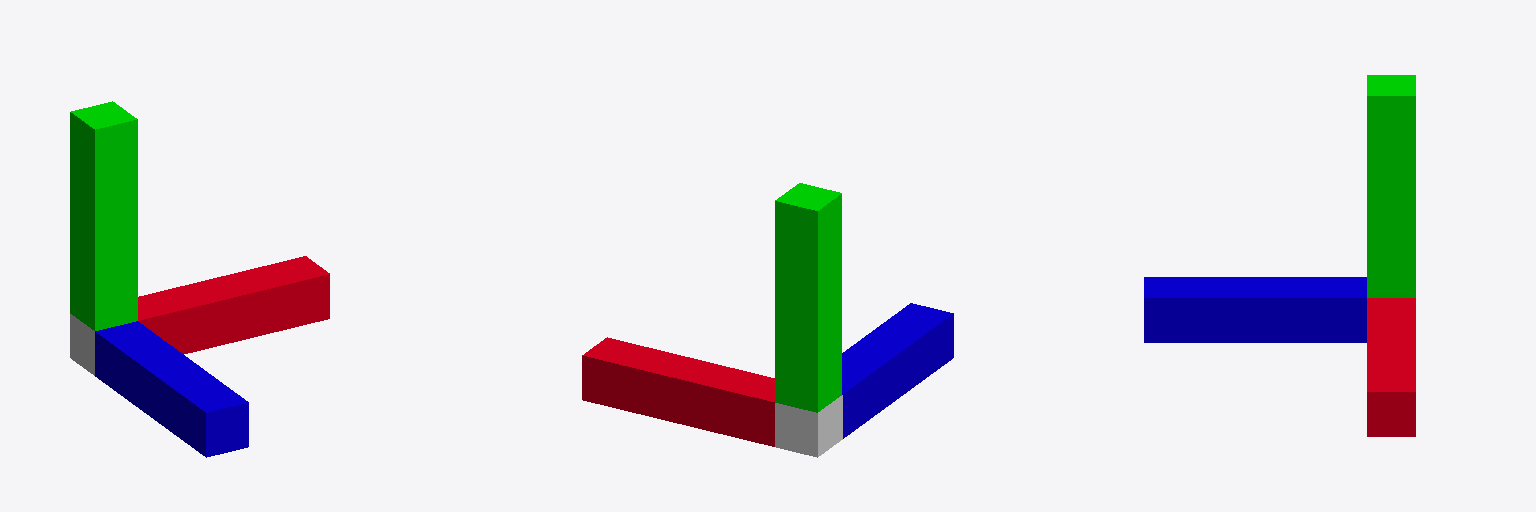
3 renders of one model, left to right at view 1: azimuth 30°, elevation 25°; view 2: azimuth 150°, elevation 25°; view 3: azimuth 270°, elevation 25°, orthographic.
Parts seen in each view (by area): view 1: Cube; view 2: Cube; view 3: Cube.
Part boxes in pixels (x1,y1,x2,y2): Cube: (70, 101, 329, 457); Cube: (582, 183, 953, 457); Cube: (1144, 75, 1415, 436).
Size of the model in its own units: 1.1 by 1.1 by 1.1.
1 materials, 1 textured.